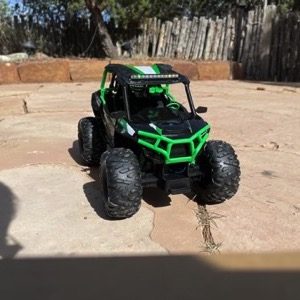polaris: (76, 62, 242, 220)
